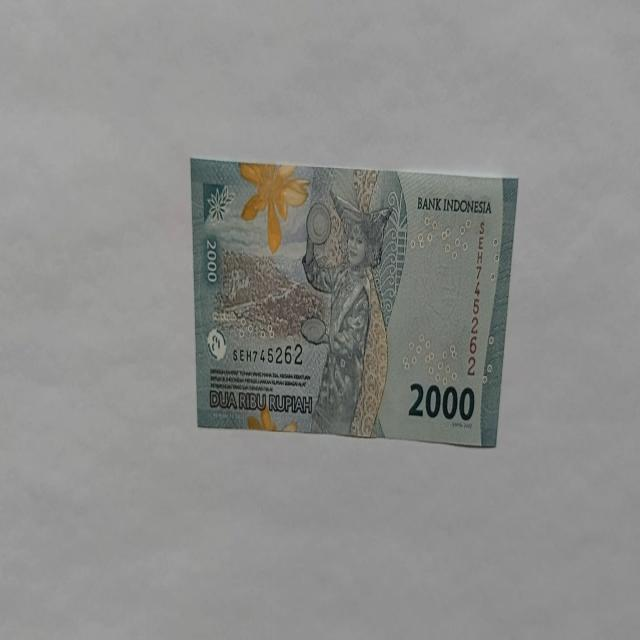dua ribu rupiah: (191, 160, 518, 447), (300, 188, 393, 438)
